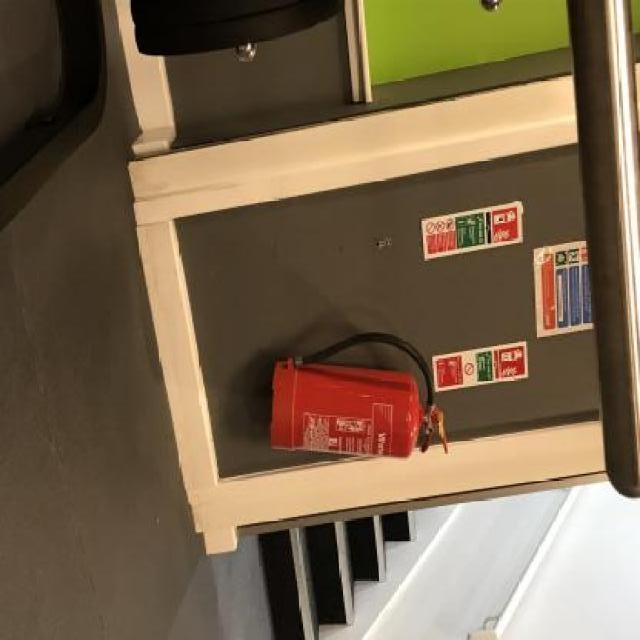fire extinguisher: (268, 333, 449, 462)
